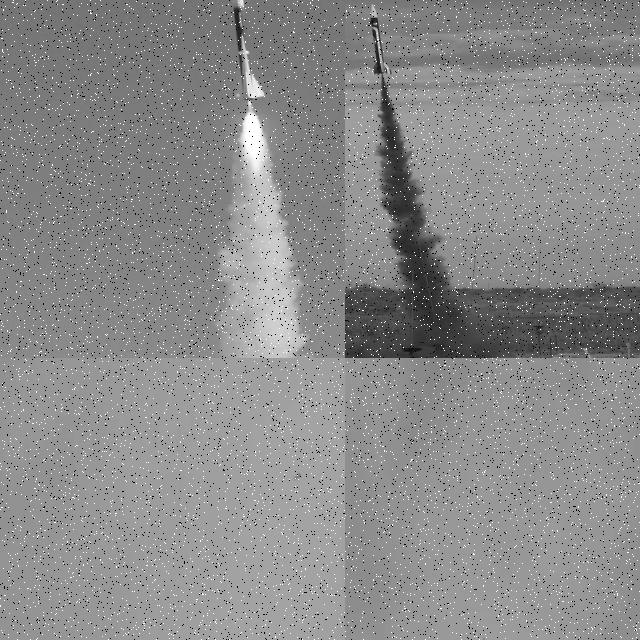Rocket: (228, 0, 266, 100), (368, 4, 394, 76), (294, 472, 302, 481), (474, 636, 486, 640)
